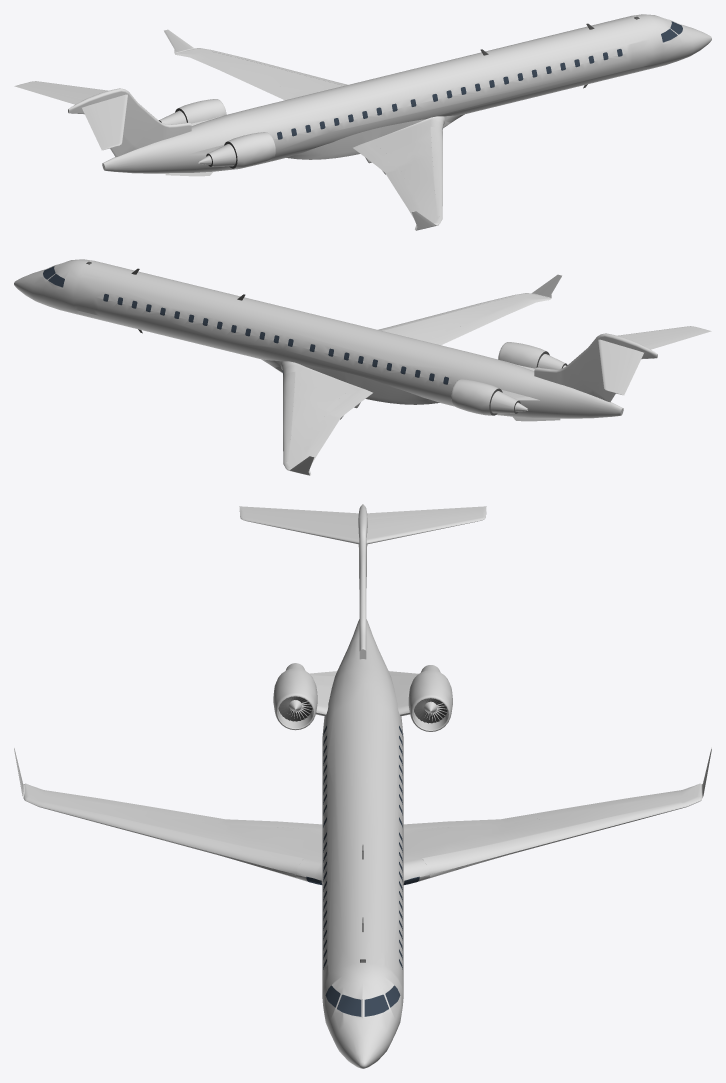
The model's file is crj9.glb.
The picture shows the model from 3 angles, top to bottom: view 1: azimuth 30°, elevation 25°; view 2: azimuth 150°, elevation 25°; view 3: azimuth 270°, elevation 25°; orthographic projection. The views are drawn at different scales.
Parts seen in each view (by area): view 1: body, glass; view 2: body, glass; view 3: body, glass, trim.
Part boxes in pixels (left/top/right/bottom): body: left=14, top=14, right=711, bottom=230; glass: left=277, top=21, right=682, bottom=139; body: left=14, top=259, right=711, bottom=475; glass: left=43, top=266, right=448, bottom=384; body: left=14, top=504, right=711, bottom=1068; glass: left=306, top=726, right=419, bottom=1016; trim: left=278, top=696, right=447, bottom=962.
Bounding box in the file's own units: 2.2 × 0.3686 × 1.45.
